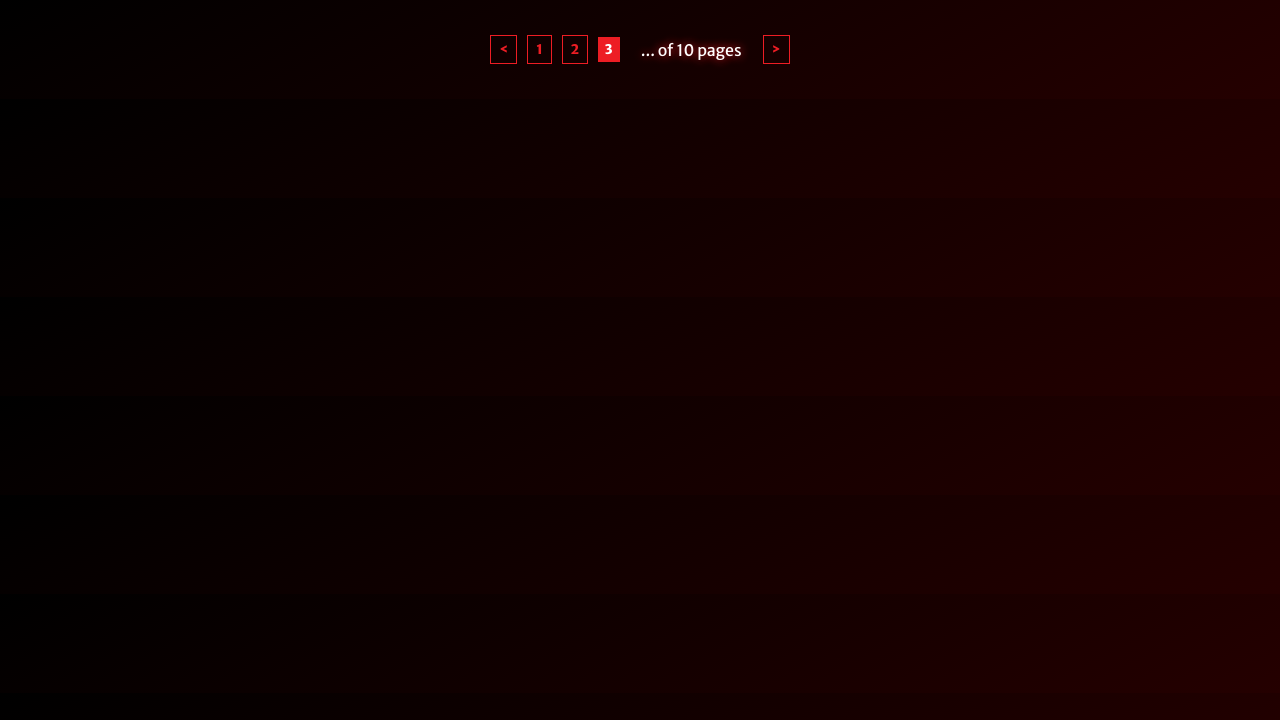
Test case: <Pagination /> › should change the page number buttons if it is needed when next page button is clicked
Click the button ">": (776, 50) left=763, top=35, right=790, bottom=64
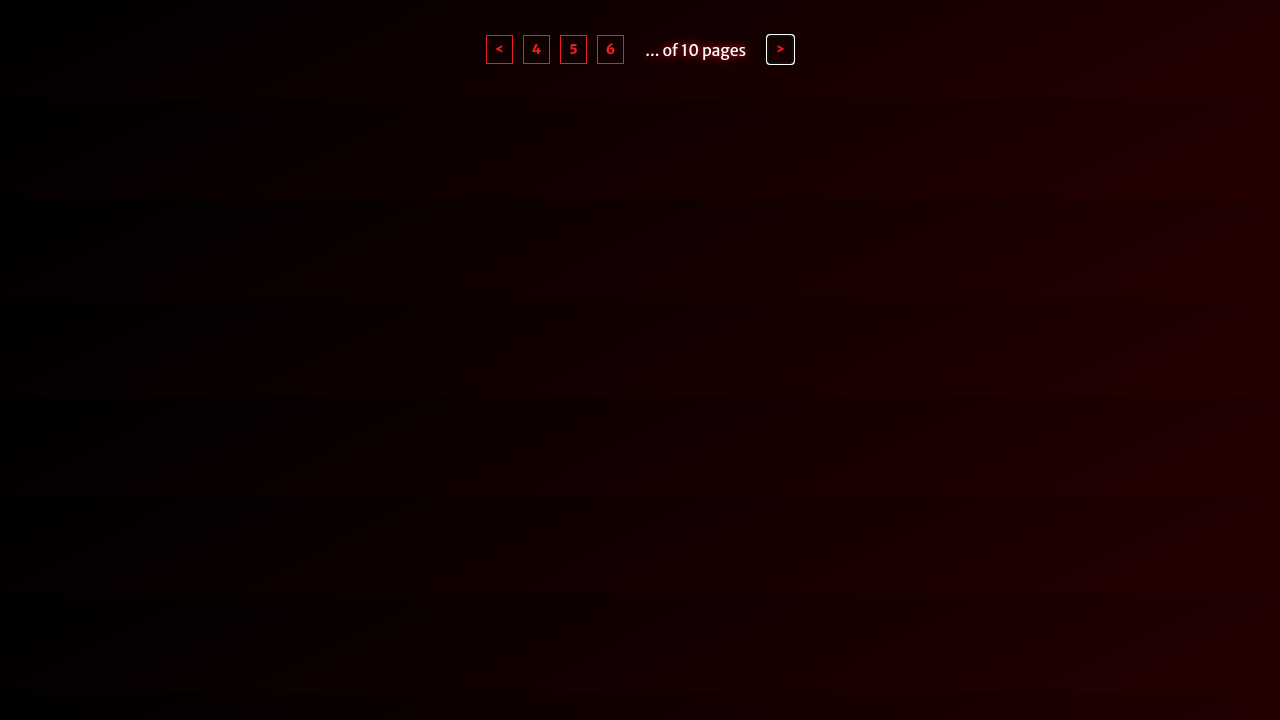
Expected: the button "4" is shown, left=523, top=35, right=550, bottom=64
Expected: the button "5" is shown, left=560, top=35, right=587, bottom=64
Expected: the button "6" is shown, left=597, top=35, right=624, bottom=64
